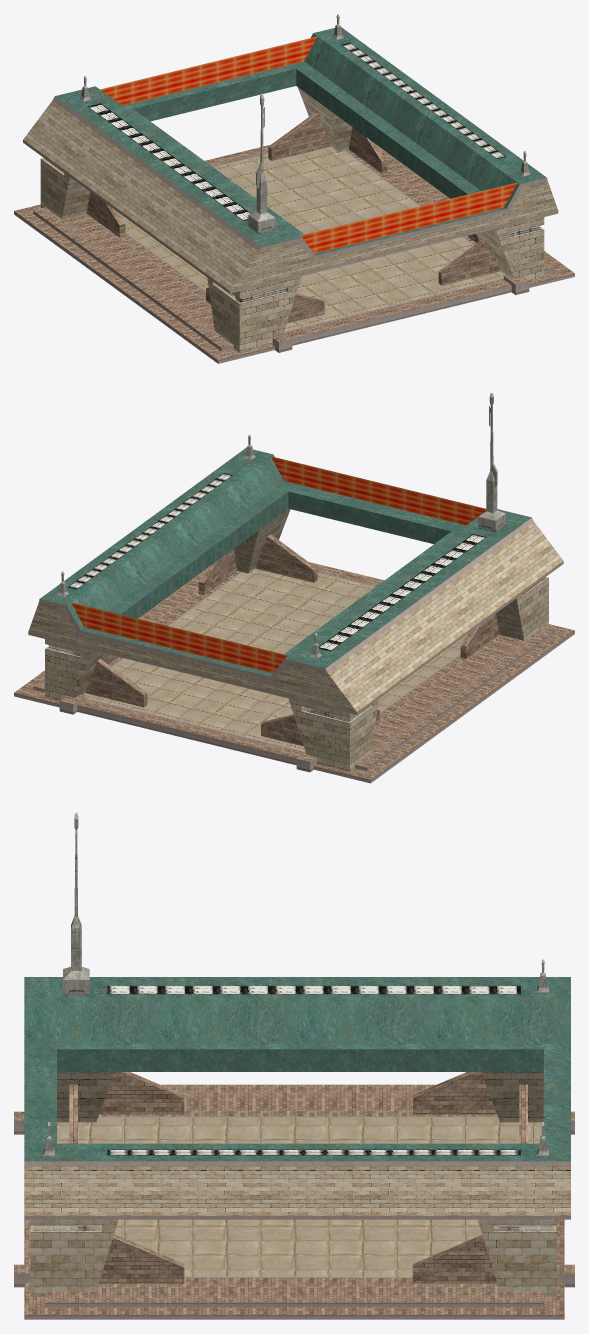
File: mun_nboo_shuttleport_s01_l1.fbx
3 views of the same model, one above another, from view 1: azimuth 30°, elevation 25°; view 2: azimuth 150°, elevation 25°; view 3: azimuth 270°, elevation 25° (orthographic). The views are drawn at different scales.
Visible parts, largest first — view 1: mesh_node; view 2: mesh_node; view 3: mesh_node.
Part boxes in pixels (box(x1,y1,x2,y2)): mesh_node: box(14, 14, 574, 363); mesh_node: box(14, 392, 574, 783); mesh_node: box(14, 812, 574, 1319).
Bounding box in the file's own units: 31.47 × 20.21 × 32.4.
